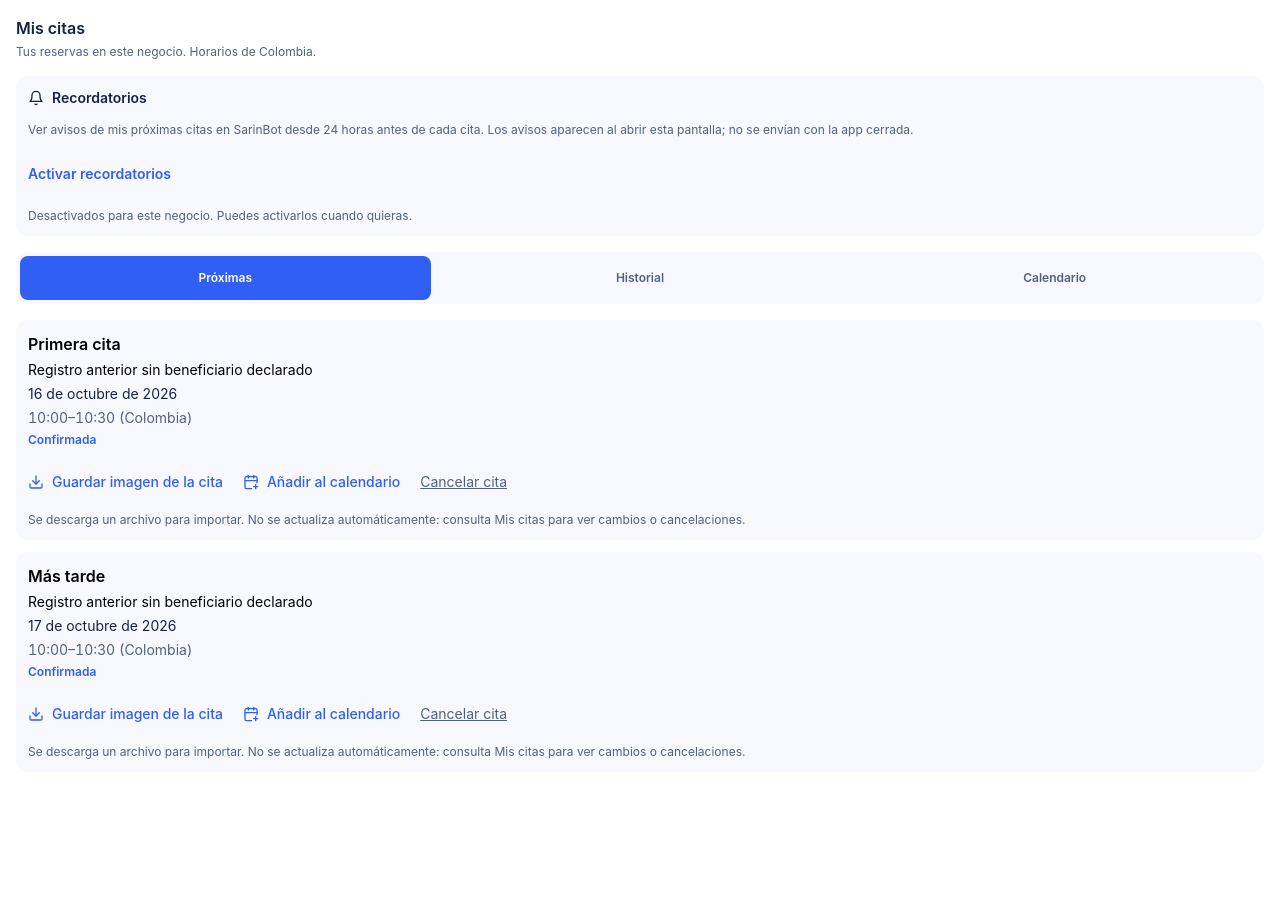
Test: the customer's appointments within one business › shows an image error and allows retry without changing the appointment
Click the button "Guardar imagen de la cita" below "16 de octubre de 2026". click: point(125, 482)
box: [28,460,223,504]
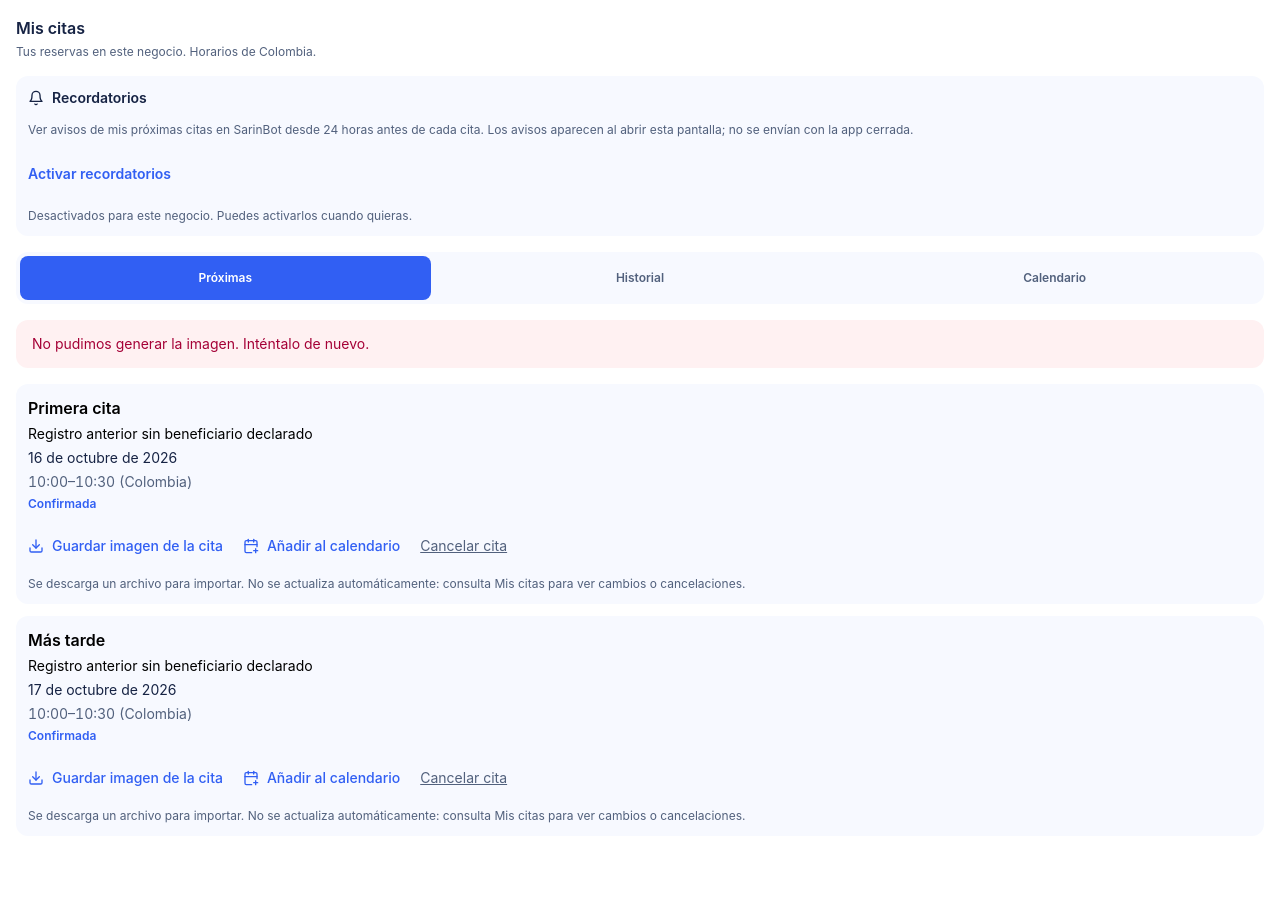
Expected: the button "Guardar imagen de la cita" below "16 de octubre de 2026" is enabled, [28,524,223,568]
Expected: the text "No pudimos generar la imagen" is shown, [32,334,369,352]
